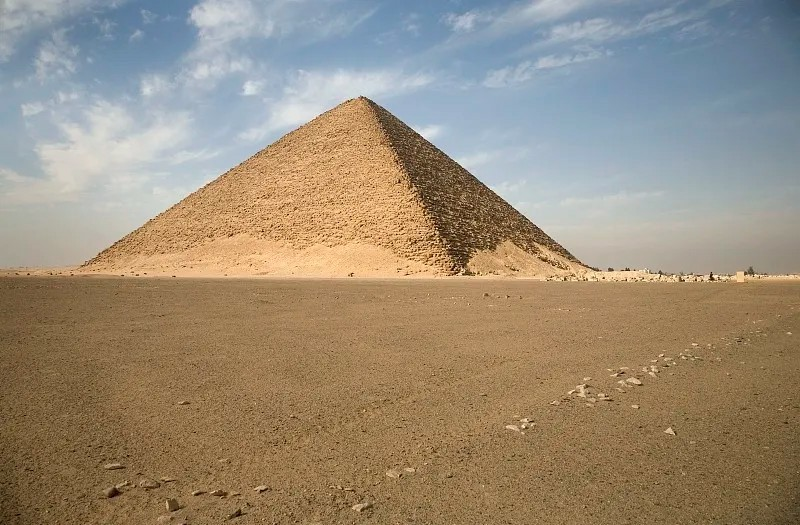Pyramid: (81, 95, 589, 277)
